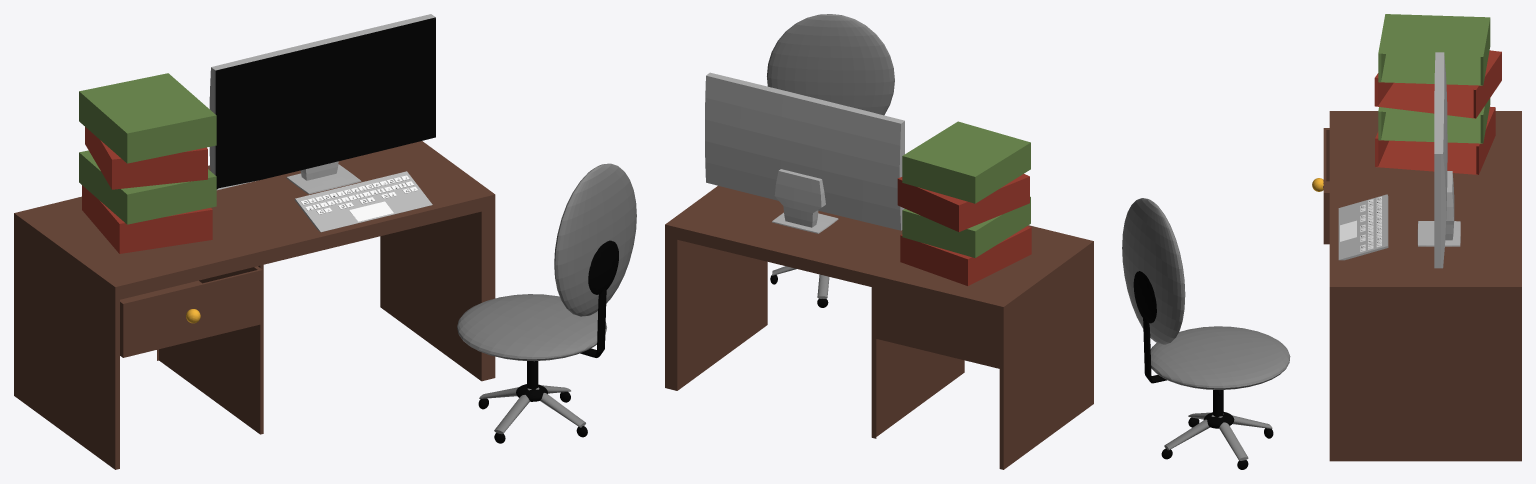
The model's file is Desk.gltf.
3 renders of one model, left to right at view 1: azimuth 30°, elevation 25°; view 2: azimuth 150°, elevation 25°; view 3: azimuth 270°, elevation 25°, orthographic. The views are drawn at different scales.
Parts seen in each view (by area): view 1: Desk; view 2: Desk; view 3: Desk.
Boxes of the visible parts, x1,y1,x2,y2 form: Desk: [14, 14, 636, 469]; Desk: [665, 14, 1093, 469]; Desk: [1122, 14, 1521, 469].
Bounding box in the file's own units: 11.33 × 7.84 × 9.3.
9 materials, 1 textured.
